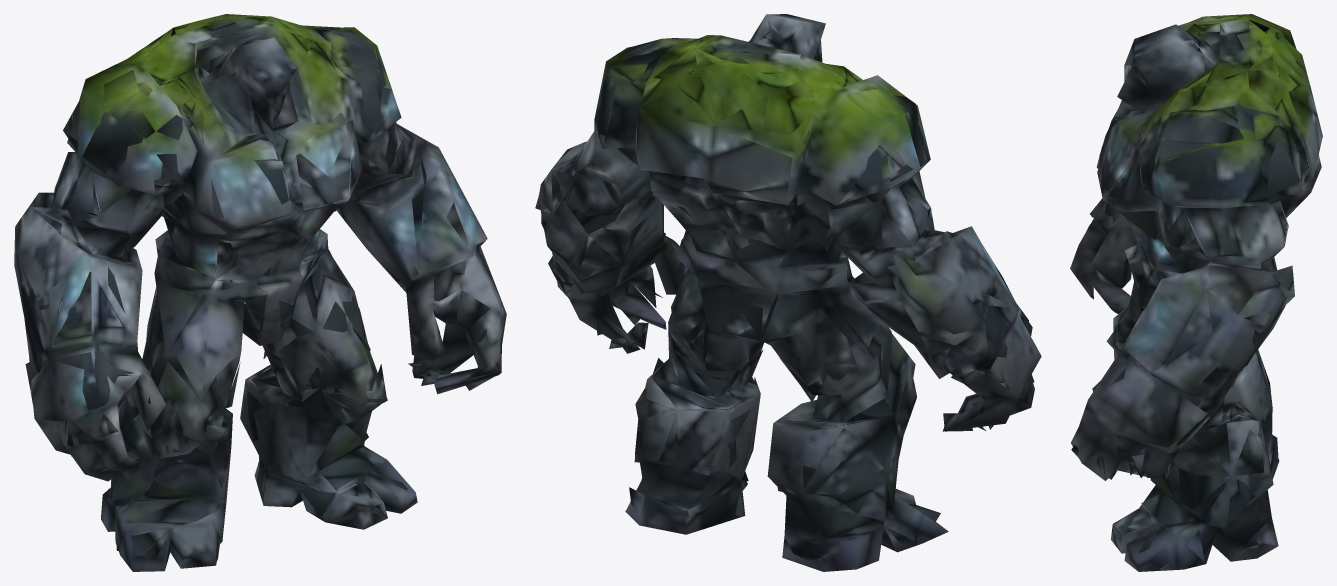
Rendered from detail_7_lo2.glb.
The picture shows the model from 3 angles, left to right: view 1: azimuth 30°, elevation 25°; view 2: azimuth 150°, elevation 25°; view 3: azimuth 270°, elevation 25°; orthographic projection. The views are drawn at different scales.
Parts seen in each view (by area): view 1: Mesh_0.001; view 2: Mesh_0.001; view 3: Mesh_0.001.
Boxes of the visible parts, <box> form: Mesh_0.001: <box>14,14,506,571</box>; Mesh_0.001: <box>535,14,1041,571</box>; Mesh_0.001: <box>1070,14,1322,571</box>.
Bounding box in the file's own units: 0.96 × 0.9799 × 0.4761.
Materials: 1 (1 with a texture image).
